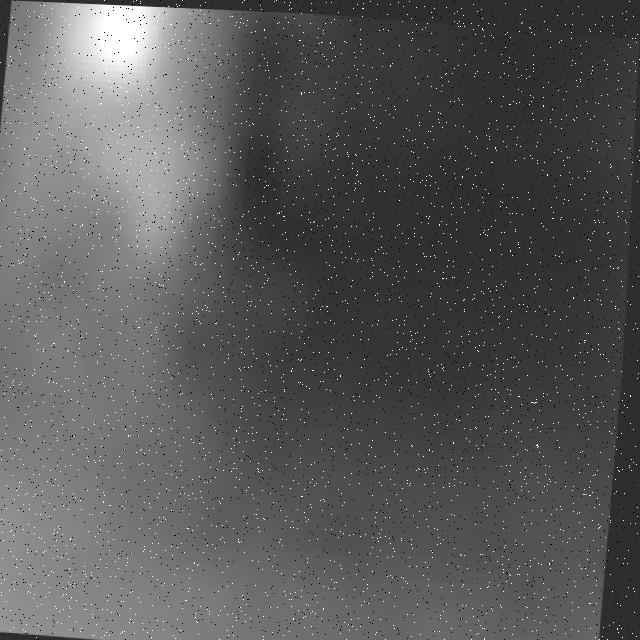person: (1, 1, 219, 361)
